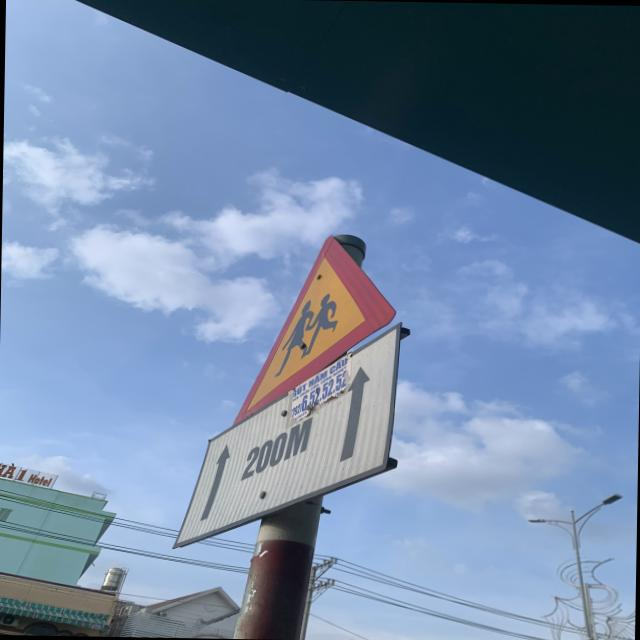Vong_Xuyen: (234, 235, 398, 426)
